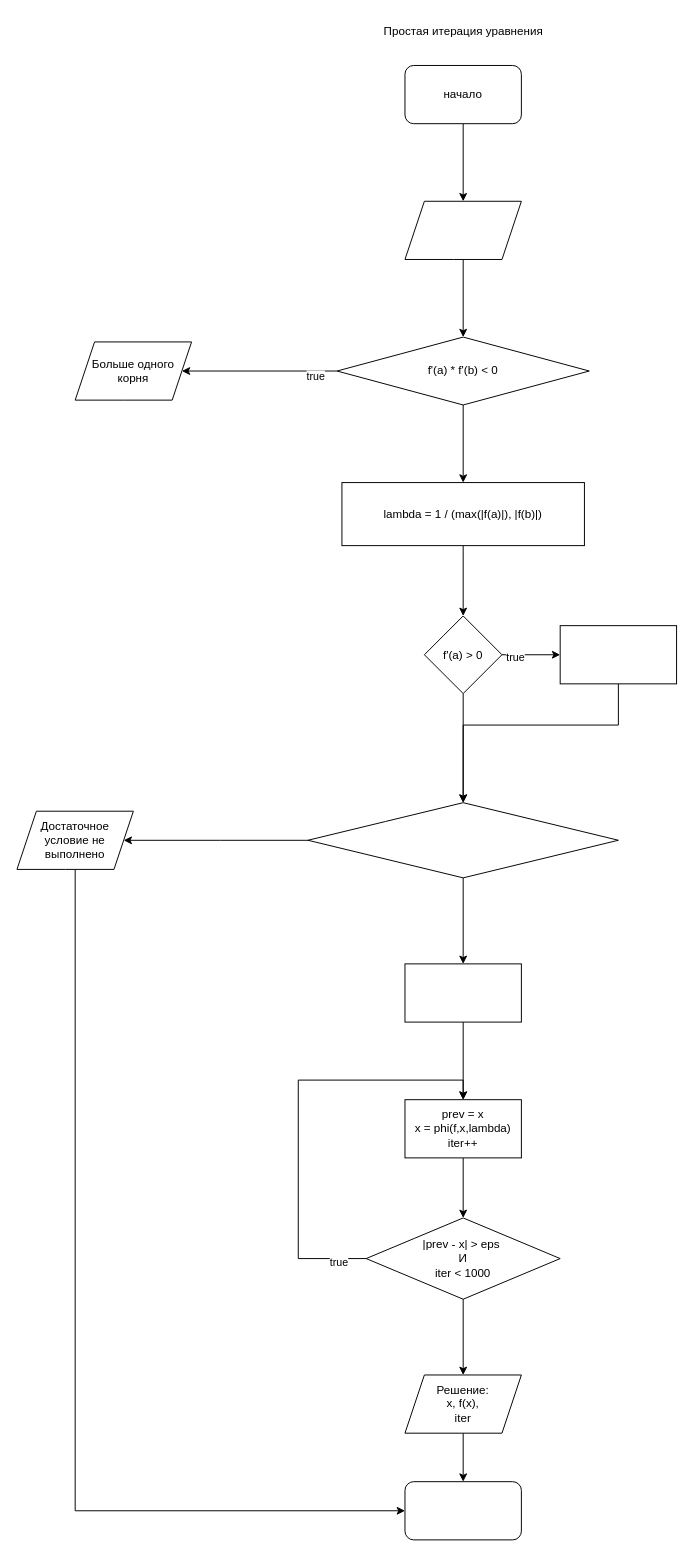
The diagram is 694 pixels wide and 1557 high, and some of its shapes have lost their labels. The shapes that lost their labels are listed below. From the top down, each one's box as (x1, y1, x2, y2) in pixels, then its label:
(404, 200, 521, 259): f, a, b, eps
(559, 625, 677, 684): lambda = -lambda
(307, 802, 618, 878): max(|phi'(f, a, lambda)|, |phi'(f, b, lambda)|) >= 1
(404, 963, 521, 1022): x = (a + b) / 2 iter = 0, prev
(404, 1481, 521, 1540): конец
